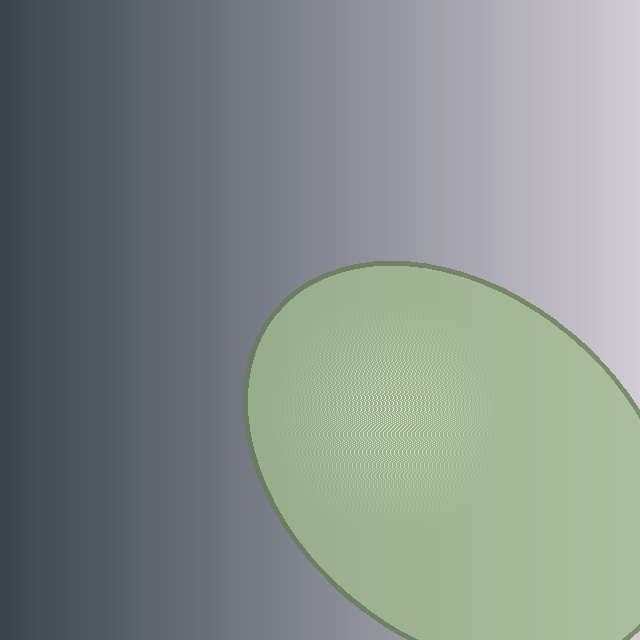lens: (245, 263, 640, 640)
